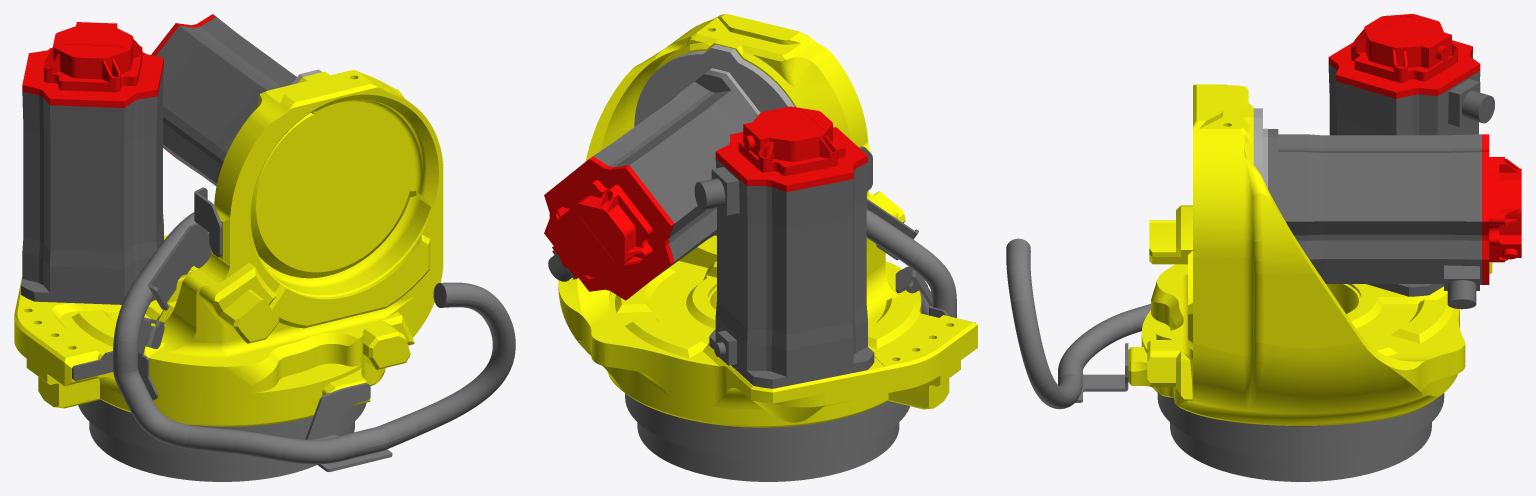
3 renders of one model, left to right at view 1: azimuth 30°, elevation 25°; view 2: azimuth 150°, elevation 25°; view 3: azimuth 270°, elevation 25°, orthographic.
Visible parts, largest first — view 1: Mesh_0; view 2: Mesh_0; view 3: Mesh_0.
Part boxes in pixels (<box>): Mesh_0: <box>14,14,515,481</box>; Mesh_0: <box>544,14,977,481</box>; Mesh_0: <box>1006,14,1521,481</box>.
Bounding box in the file's own units: 0.4017 × 0.5019 × 0.3882.
